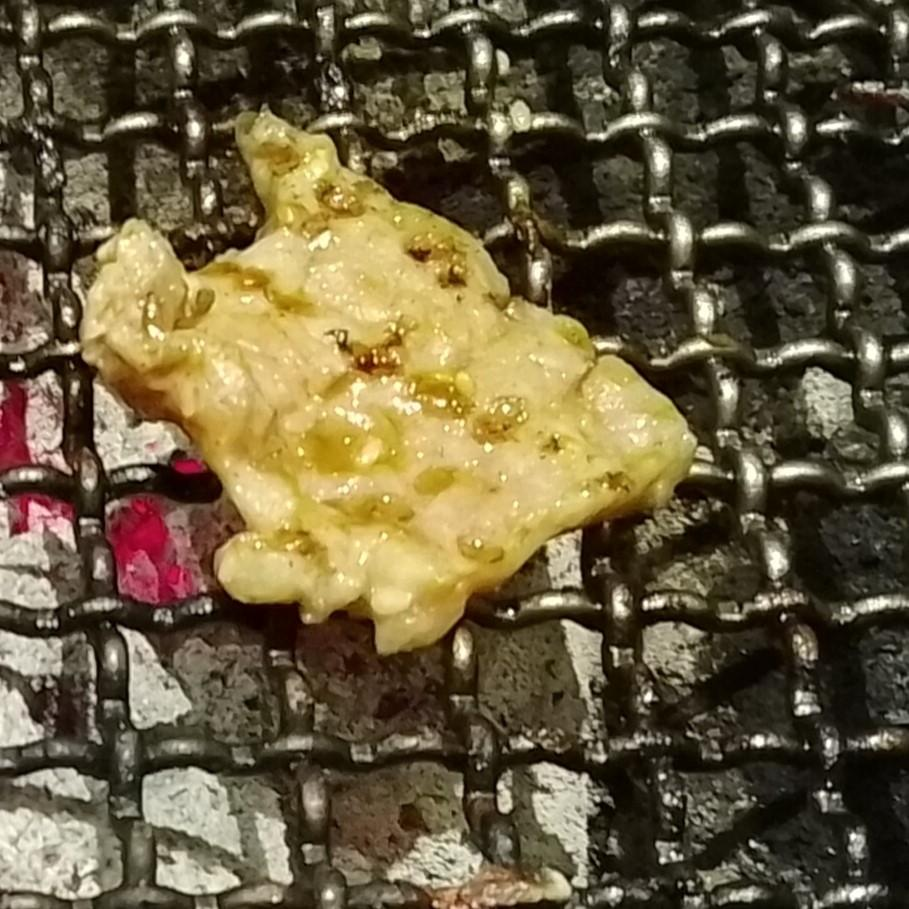Well-Cooked: (77, 110, 696, 658)
